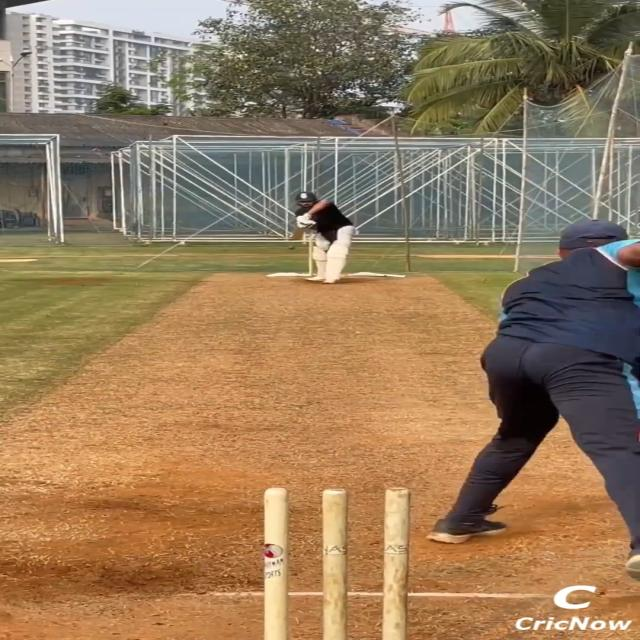ball: (288, 245, 296, 250)
stump: (263, 487, 409, 640)
